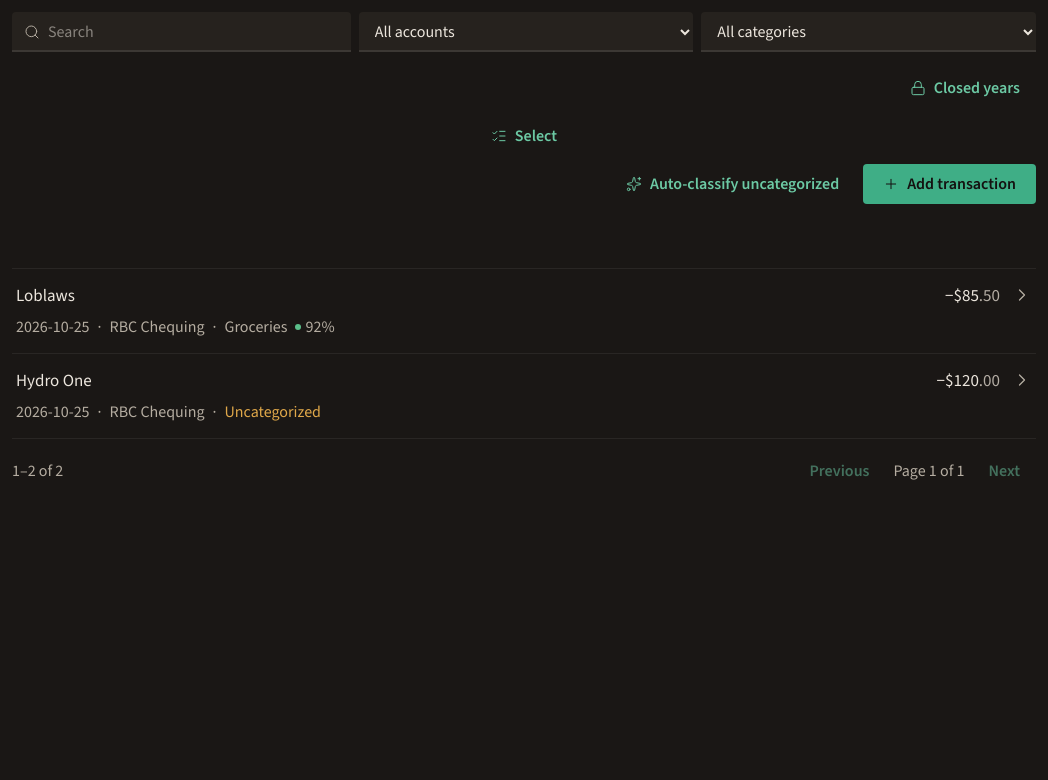
Test case: LedgerWorkspace loading and layout › shows checkboxes on phones only in select mode
Check: the button with aria-label "Hydro One, details and actions" is shown, box [12,354,1036,438]
Click the button "Select": [524, 136] box [12,116,1036,156]
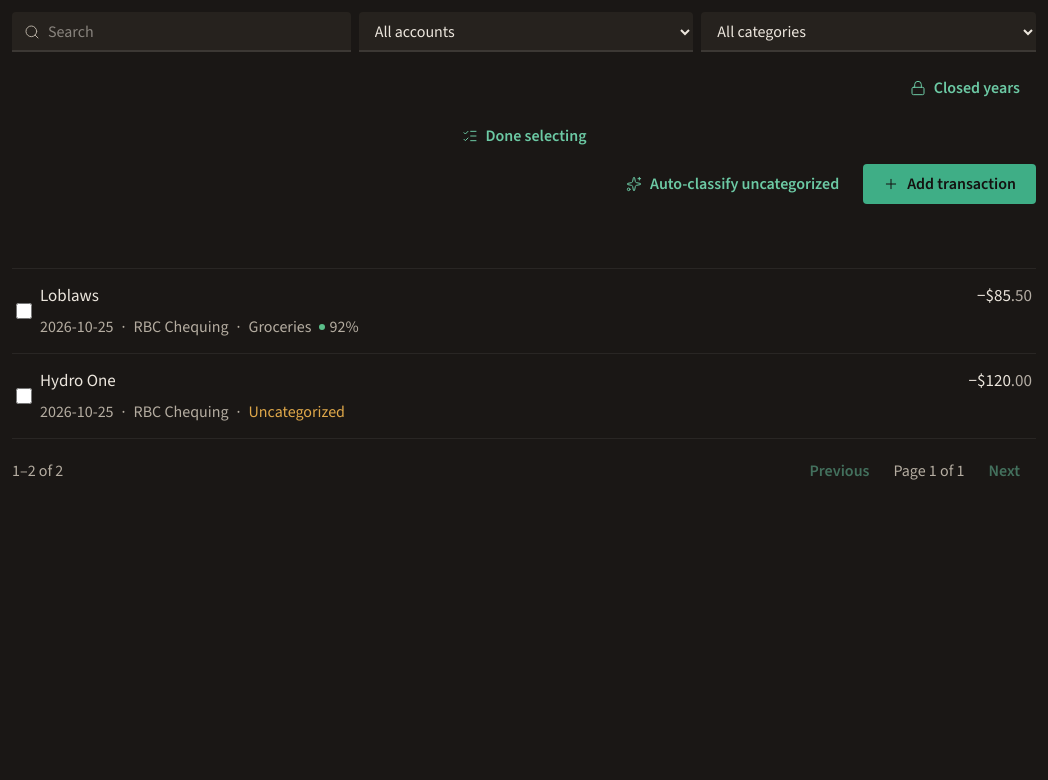
Check: the number of checkboxes named "Select transaction" is 2
Click the 1st checkbox named "Select transaction": [24, 311] box [16,303,32,319]
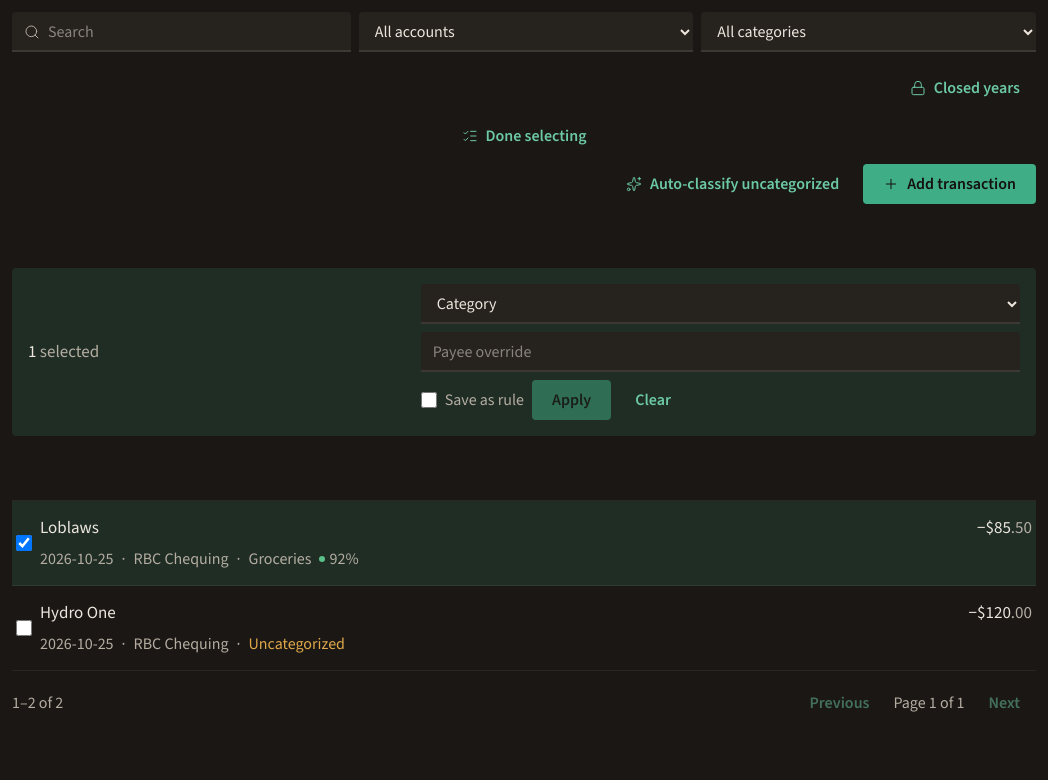
Check: the text "selected" is shown, box [36,340,99,363]
